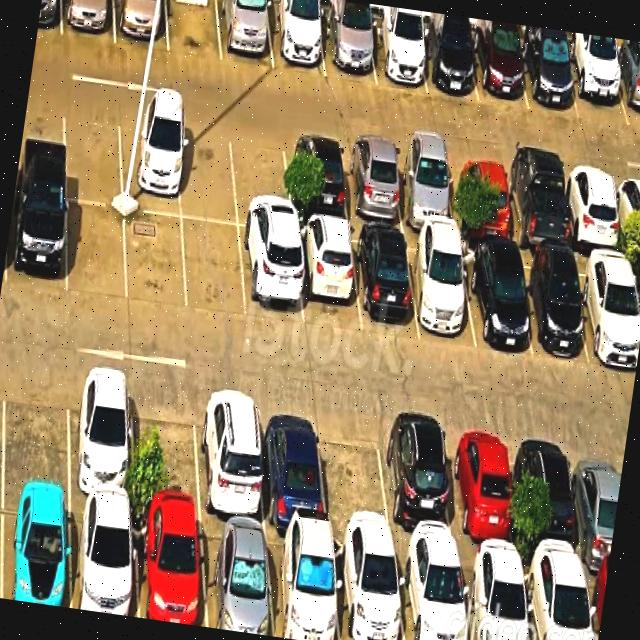empty: (318, 408, 392, 544), (132, 378, 201, 517), (3, 361, 69, 495), (230, 127, 292, 233), (182, 219, 246, 318), (126, 210, 187, 313), (178, 119, 237, 224), (64, 102, 122, 206), (68, 201, 127, 301), (166, 0, 222, 61)
occupied: (378, 416, 457, 552), (444, 422, 517, 561), (196, 388, 265, 526), (258, 397, 327, 532), (517, 431, 584, 567), (69, 367, 134, 506), (199, 519, 274, 637), (134, 510, 206, 627), (266, 529, 339, 640), (1, 492, 70, 608), (71, 499, 138, 618), (460, 246, 532, 356), (406, 236, 476, 348), (514, 252, 587, 359), (573, 255, 640, 368), (351, 228, 419, 337), (333, 537, 404, 640), (296, 221, 361, 332), (570, 438, 622, 570), (395, 549, 468, 640), (119, 110, 181, 217), (6, 188, 66, 294), (239, 229, 303, 326), (502, 162, 570, 253), (459, 554, 530, 640), (448, 155, 513, 243), (284, 135, 349, 223), (522, 561, 593, 640), (392, 147, 456, 233), (341, 141, 404, 228), (563, 43, 628, 126), (561, 169, 623, 254), (518, 33, 579, 118), (417, 24, 478, 102), (470, 27, 528, 109), (266, 0, 326, 77), (367, 17, 427, 93), (320, 10, 376, 83), (217, 0, 273, 70), (114, 0, 168, 51), (609, 48, 640, 128), (62, 0, 115, 43), (613, 174, 640, 255)
